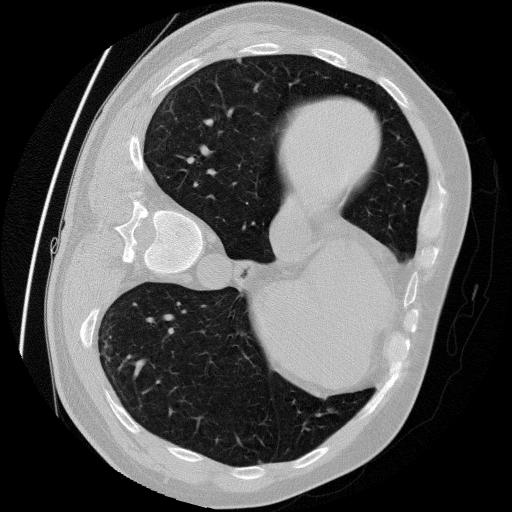nodule: (234, 53, 247, 66)
